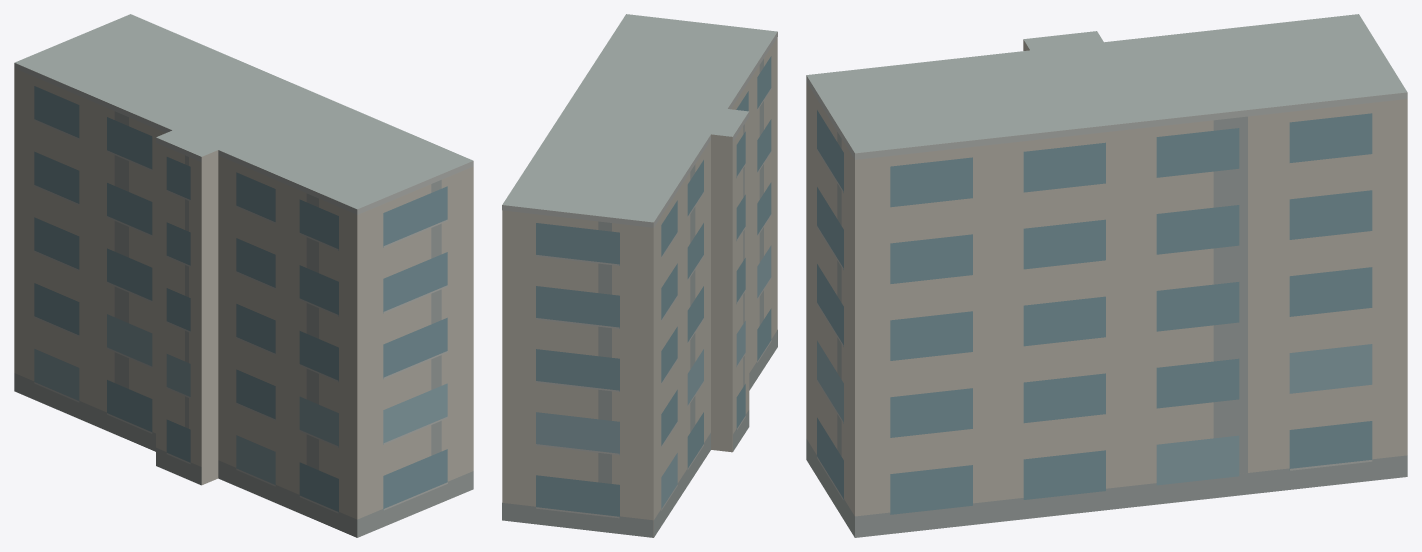
The model's file is survey-upis-32651086.glb.
3 views of the same model, side by side, from view 1: azimuth 30°, elevation 25°; view 2: azimuth 150°, elevation 25°; view 3: azimuth 270°, elevation 25° (orthographic). The views are drawn at different scales.
Visible parts, largest first — view 1: survey-upis-32651086.tmp; view 2: survey-upis-32651086.tmp; view 3: survey-upis-32651086.tmp.
Boxes of the visible parts, <box> form: survey-upis-32651086.tmp: <box>14,14,473,537</box>; survey-upis-32651086.tmp: <box>502,14,777,537</box>; survey-upis-32651086.tmp: <box>806,14,1407,537</box>.
Bounding box in the file's own units: 11.13 × 14.3 × 20.28.
